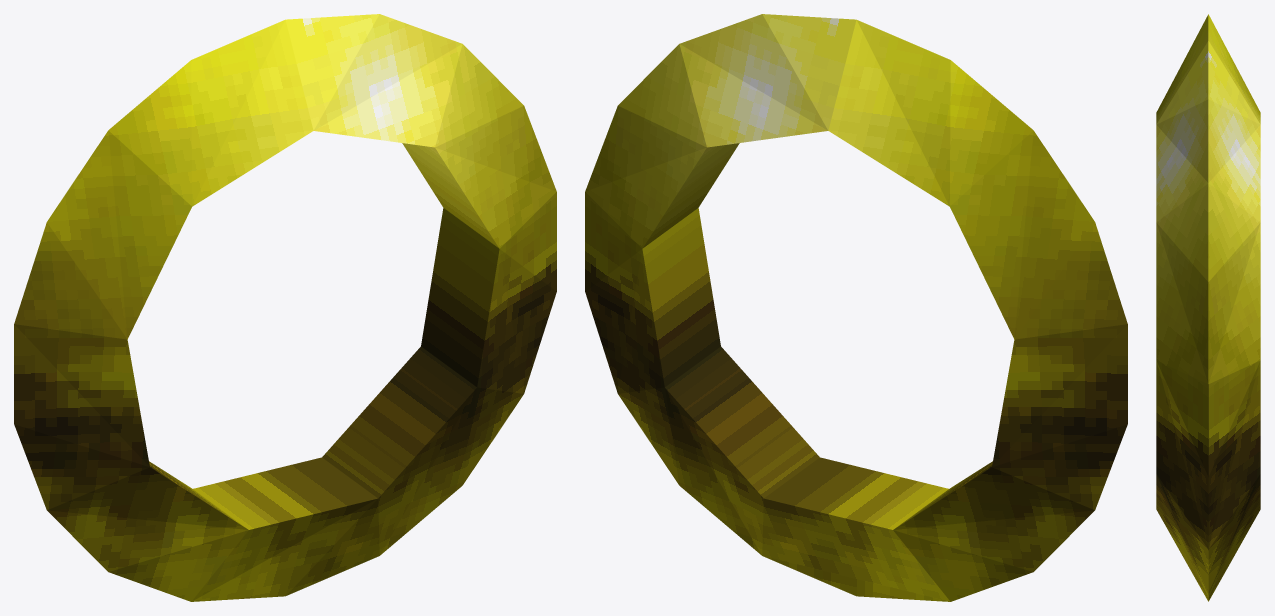
The model's file is Ring.obj.
3 renders of one model, left to right at view 1: azimuth 30°, elevation 25°; view 2: azimuth 150°, elevation 25°; view 3: azimuth 270°, elevation 25°, orthographic. The views are drawn at different scales.
Size of the model in its own units: 6.05 by 6.14 by 1.09.
Materials: 1 (1 with a texture image).
